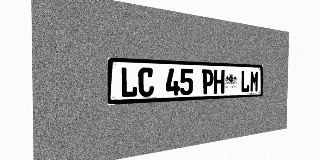4: (166, 68, 180, 96)
5: (180, 68, 193, 95)
C: (138, 67, 154, 97)
H: (213, 69, 225, 94)
L: (120, 67, 137, 98), (240, 70, 250, 93)
M: (250, 71, 259, 92)
P: (202, 69, 213, 94)
